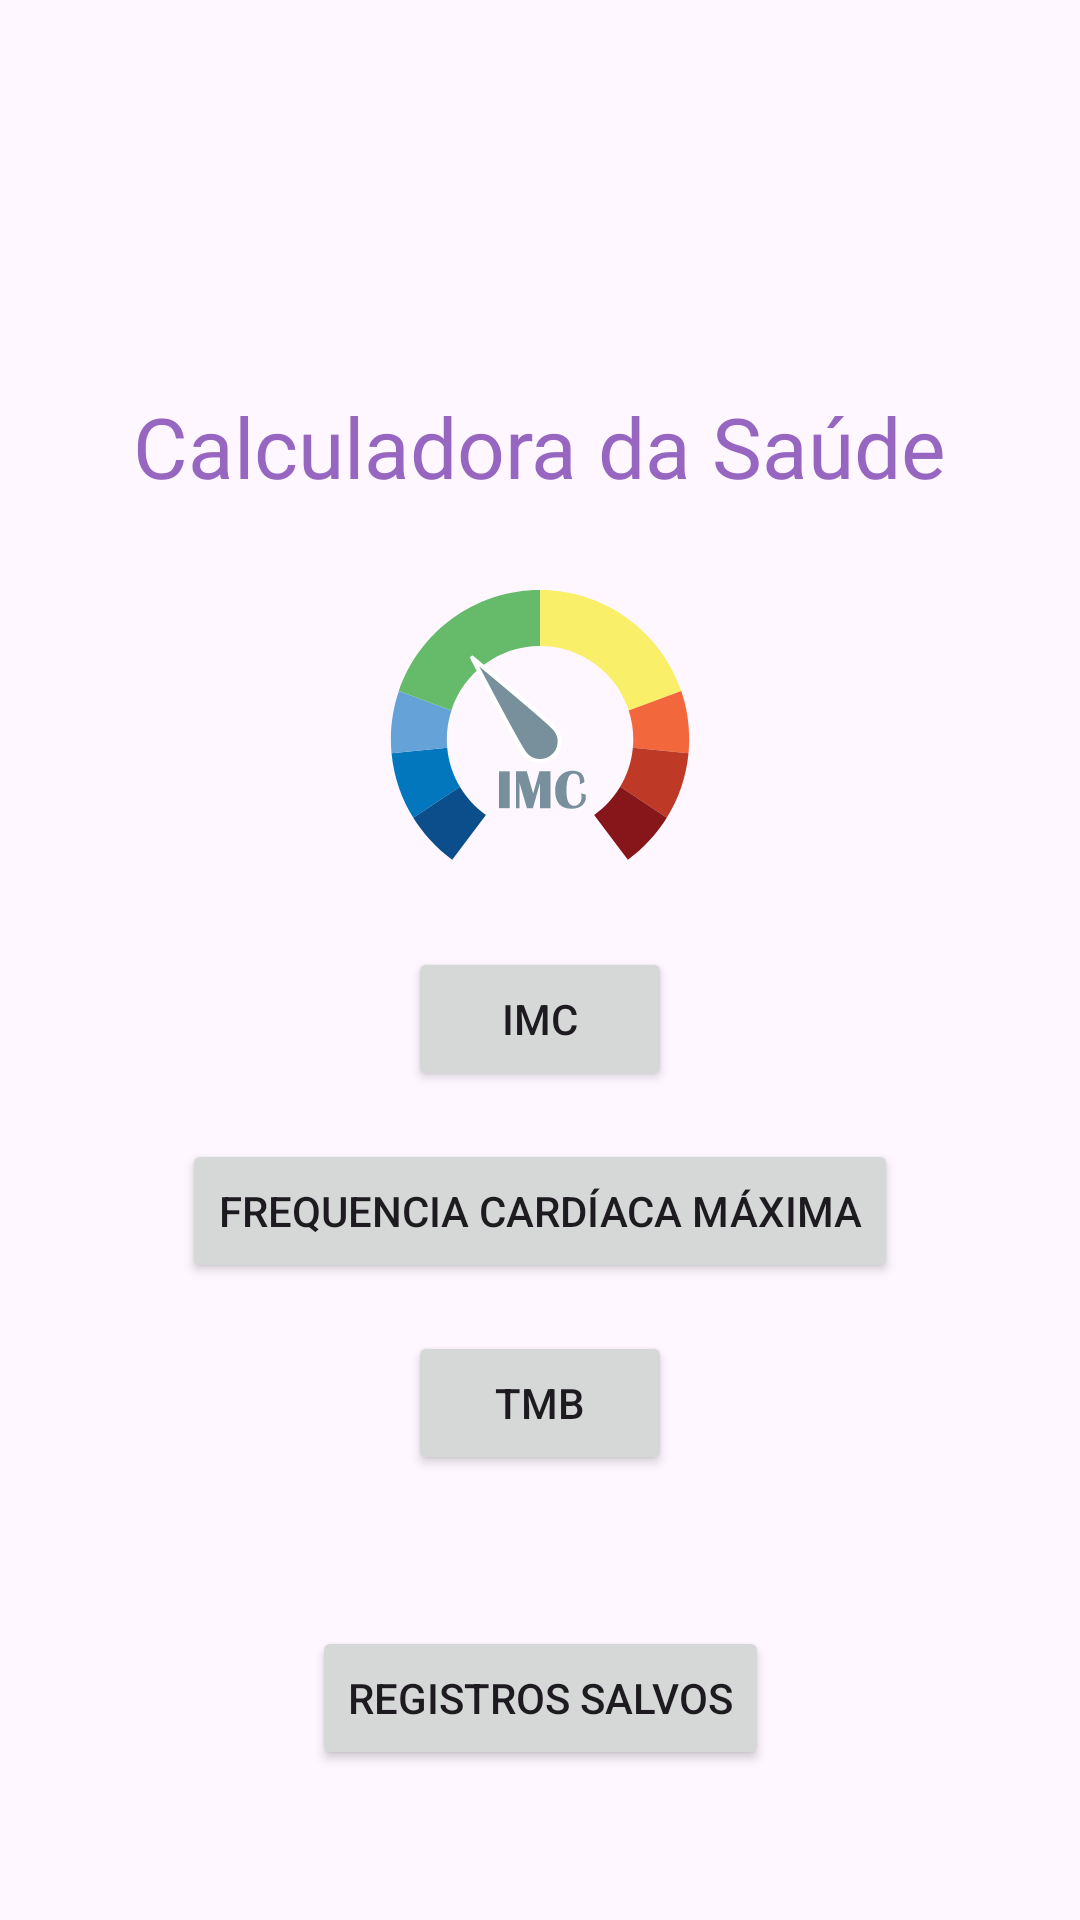

Point at icon controls on the screen. Image size 1080px x 1920px, points as point (x, y).
saudavel: point (540, 725)
